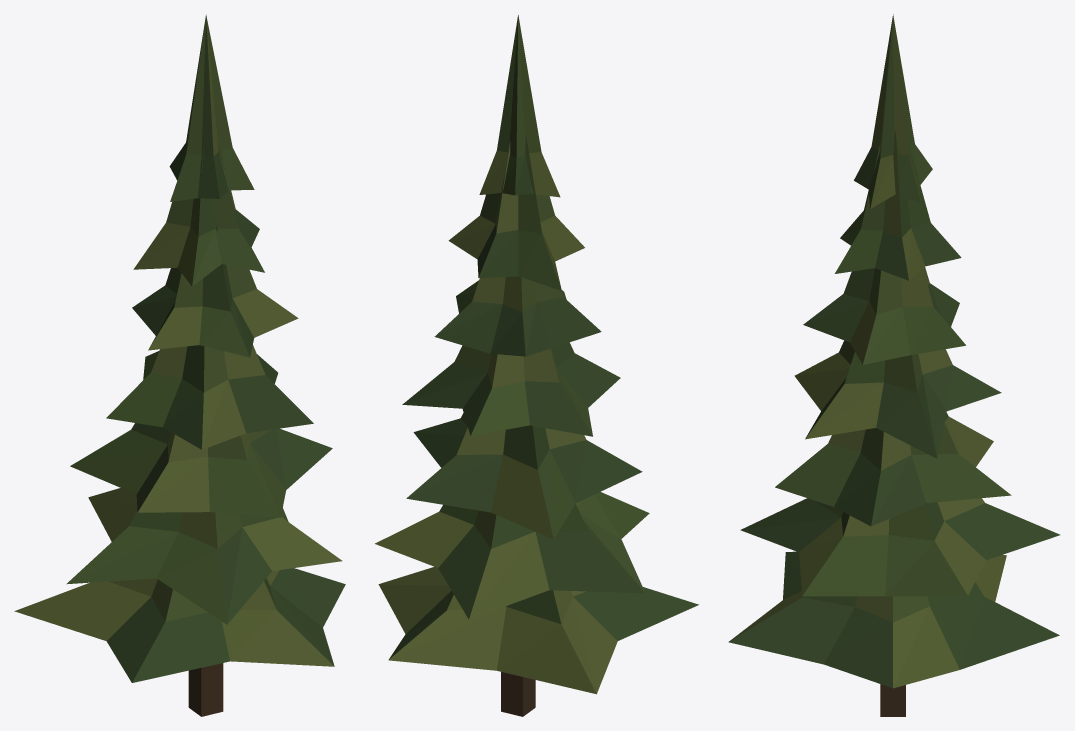
The model's file is highwood-pine-b.glb.
The picture shows the model from 3 angles, left to right: view 1: azimuth 30°, elevation 25°; view 2: azimuth 150°, elevation 25°; view 3: azimuth 270°, elevation 25°; orthographic projection.
Parts seen in each view (by area): view 1: Highwood_ShadedPine_b; view 2: Highwood_ShadedPine_b; view 3: Highwood_ShadedPine_b.
Part boxes in pixels (x1,y1,x2,y2): Highwood_ShadedPine_b: [14, 14, 345, 716]; Highwood_ShadedPine_b: [375, 15, 698, 716]; Highwood_ShadedPine_b: [728, 14, 1060, 716].
Bounding box in the file's own units: 3.37 × 8.15 × 3.52.
